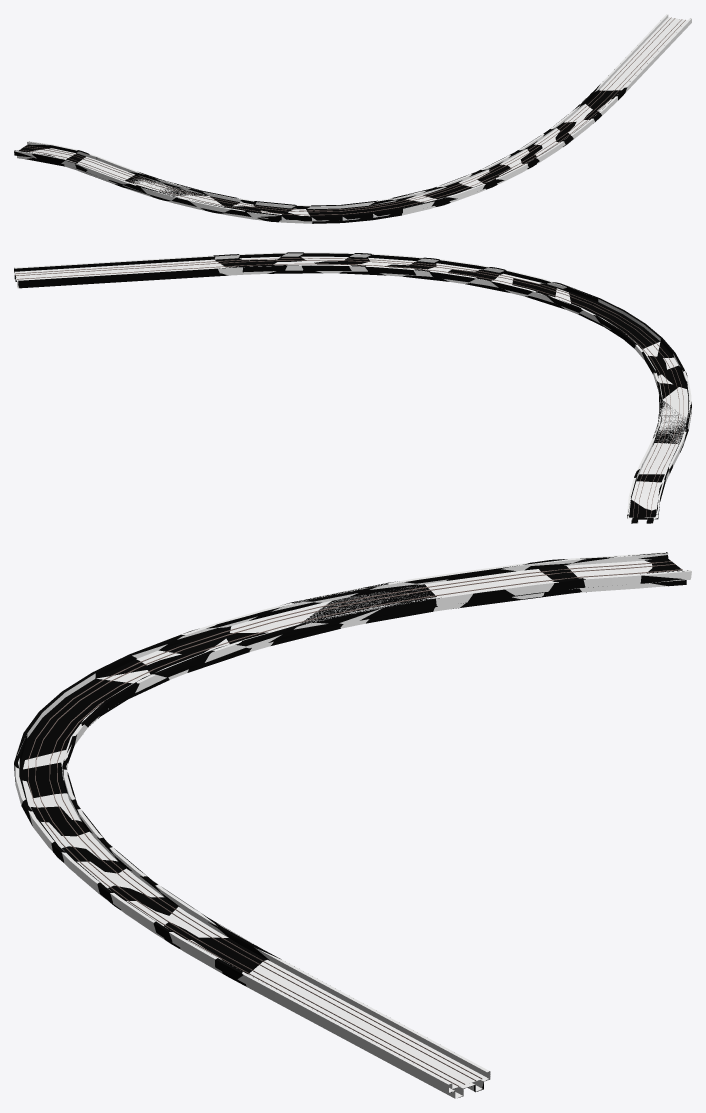
File: elevated_rail_segment3.dae
The picture shows the model from 3 angles, top to bottom: view 1: azimuth 30°, elevation 25°; view 2: azimuth 150°, elevation 25°; view 3: azimuth 270°, elevation 25°; orthographic projection. The views are drawn at different scales.
Parts seen in each view (by area): view 1: elevated_rail_segment3_a3000, elevated_rail_segment3_a2000; view 2: elevated_rail_segment3_a2000, elevated_rail_segment3_a3000; view 3: elevated_rail_segment3_a3000, elevated_rail_segment3_a2000.
Part boxes in pixels (left/top/right/bottom): elevated_rail_segment3_a3000: left=14, top=14, right=691, bottom=223; elevated_rail_segment3_a2000: left=14, top=63, right=647, bottom=223; elevated_rail_segment3_a2000: left=14, top=252, right=691, bottom=523; elevated_rail_segment3_a3000: left=14, top=252, right=691, bottom=523; elevated_rail_segment3_a3000: left=15, top=552, right=691, bottom=1098; elevated_rail_segment3_a2000: left=14, top=552, right=687, bottom=1097.
Size of the model in its own units: 235 by 117 by 11.34.
